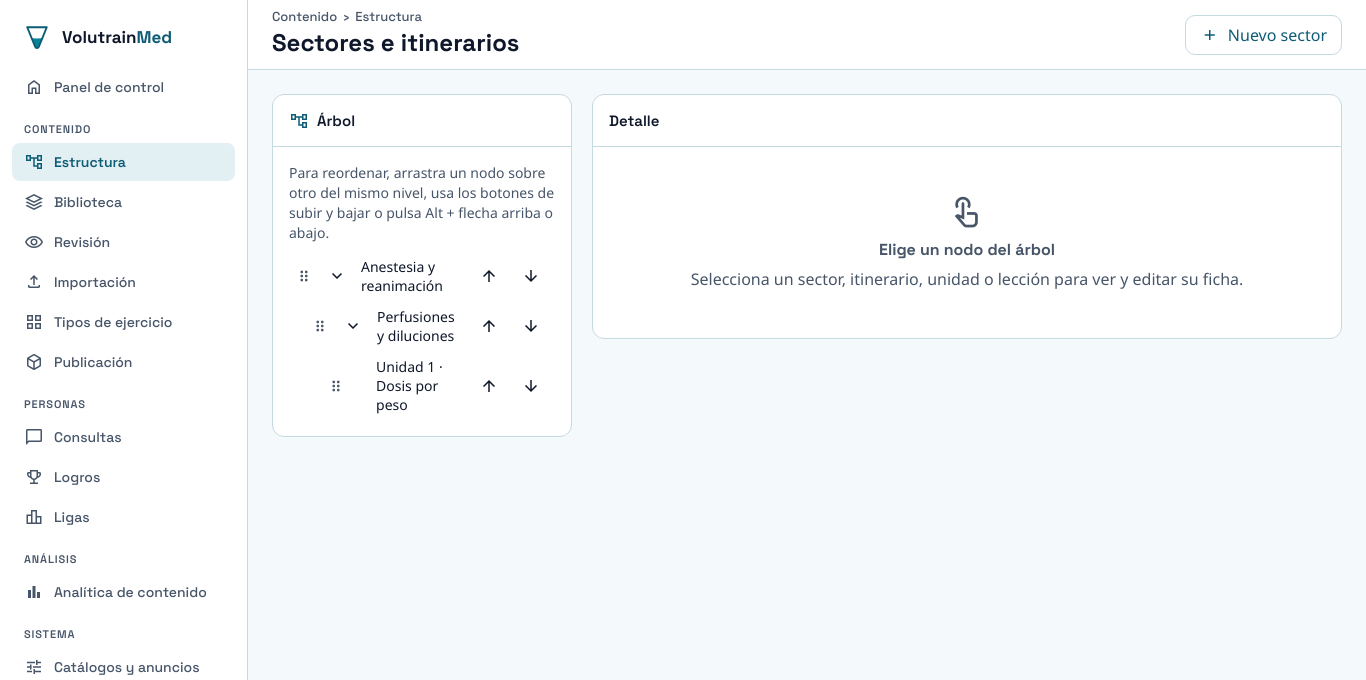
Test case: B04 · estructura del contenido › Nueva unidad: aparece en el árbol en estado borrador
The width and height of the screenshot is (1366, 680).
Click the button "Perfusiones y diluciones": (421, 326) 377,301 -> 465,351
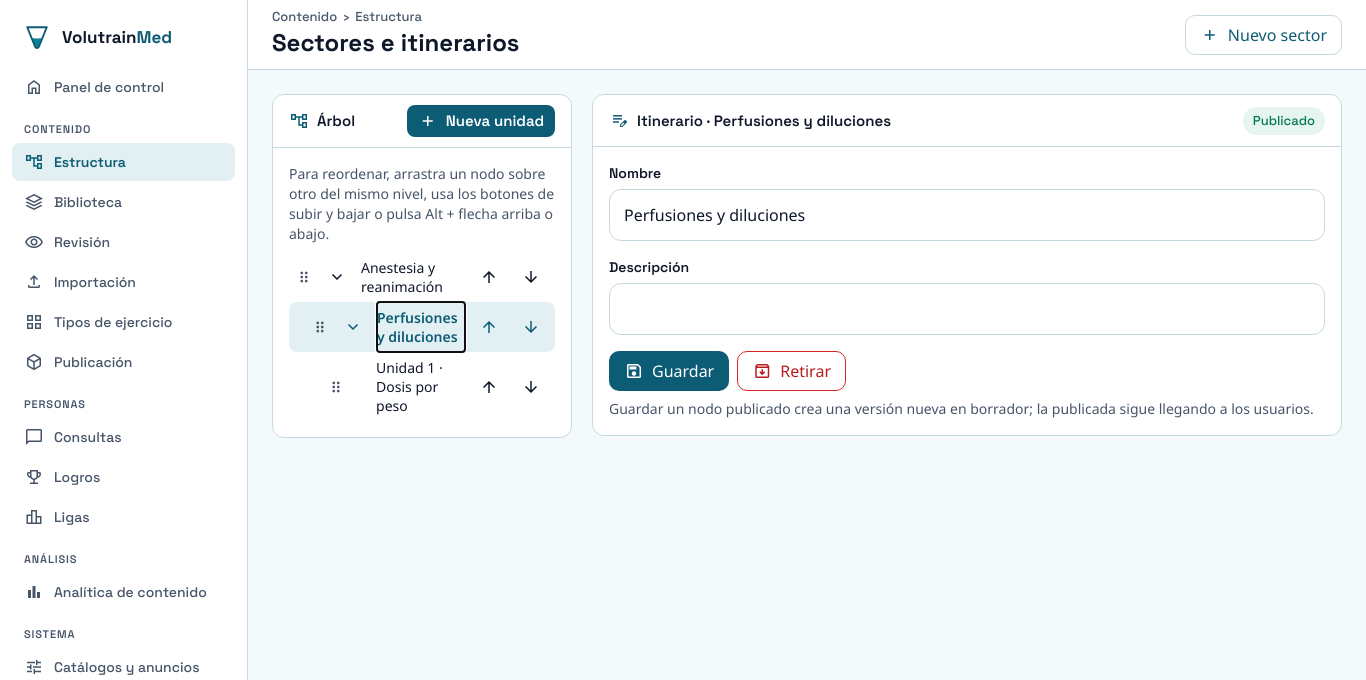
Click the button "Nueva unidad": (481, 121) 407,105 -> 555,137
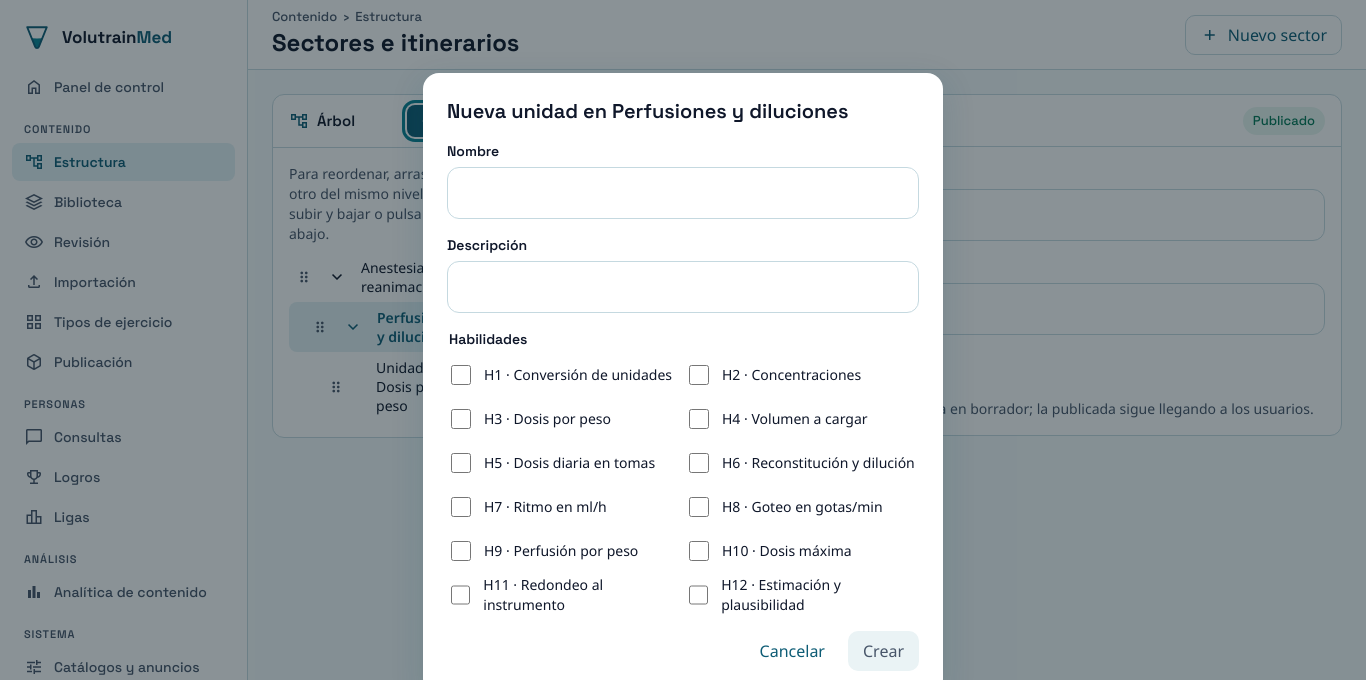
In the field labelled "Nombre": (683, 193) 447,167 -> 919,219, type "Perfusiones"
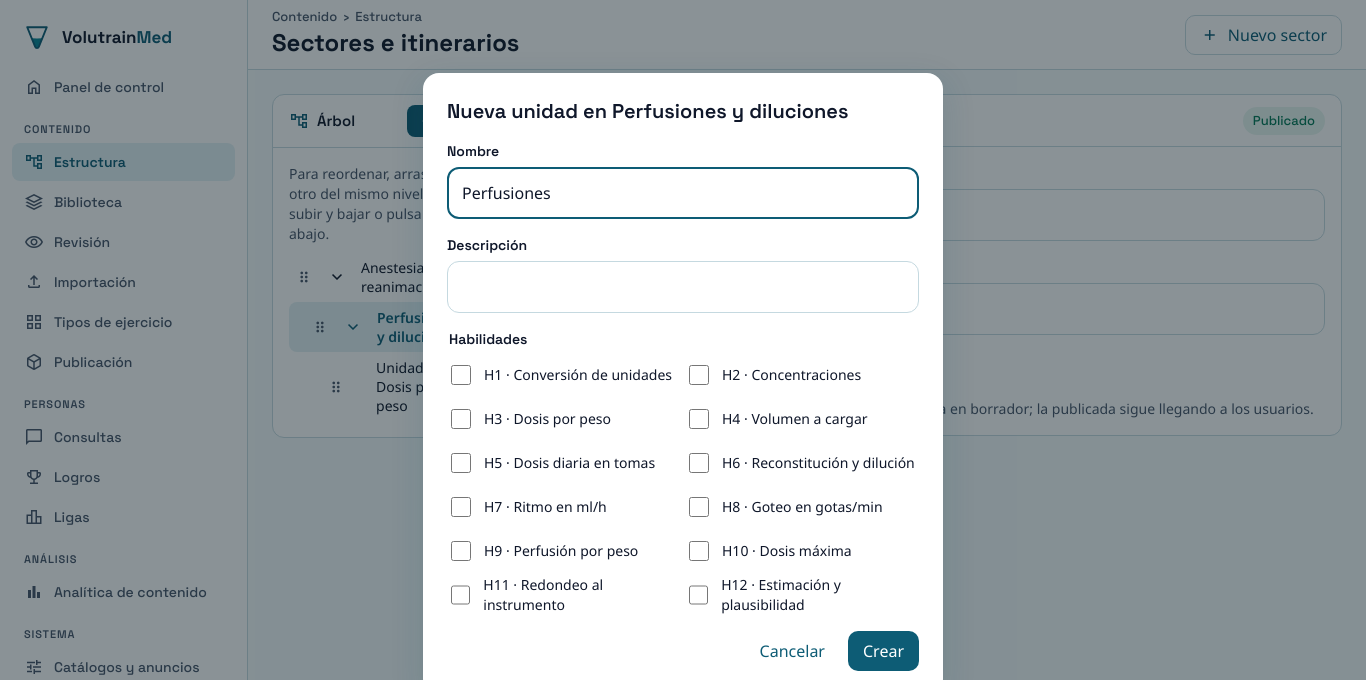
Click the checkbox labelled "H7 · Ritmo en ml/h": (461, 507) 451,497 -> 471,517
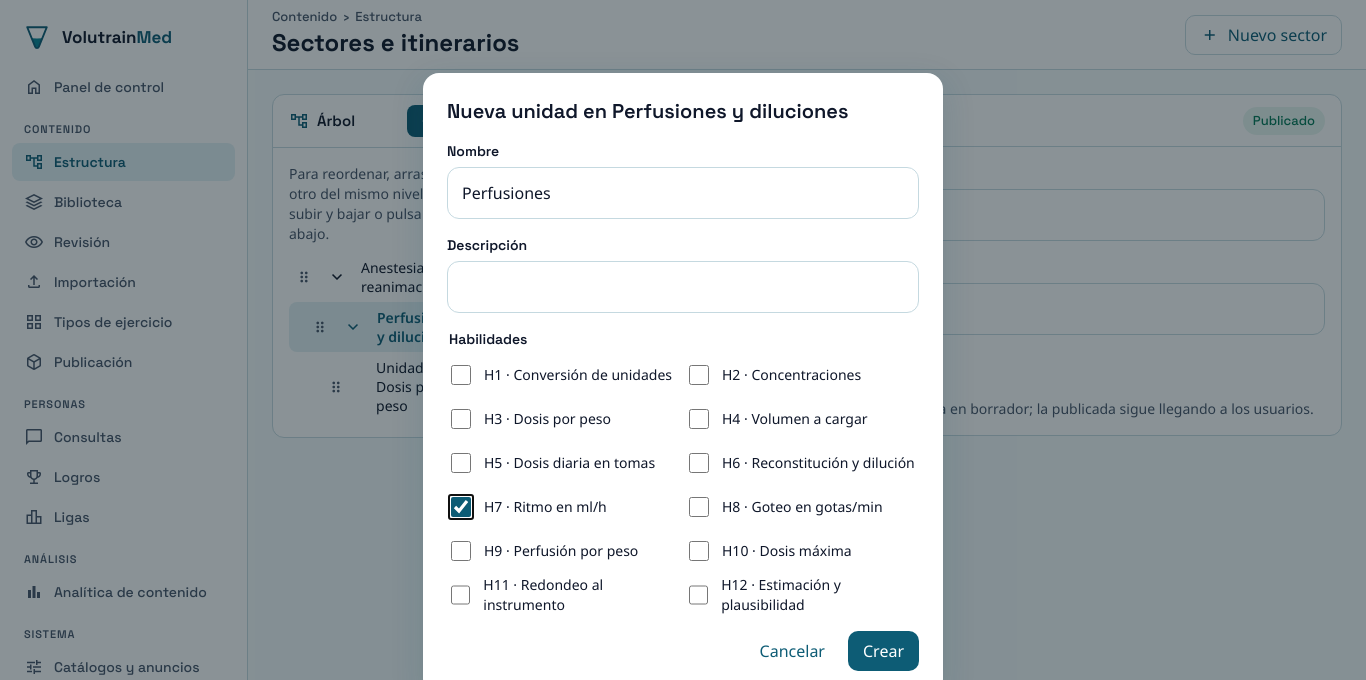
Click the checkbox labelled "H9 · Perfusión por peso": (461, 551) 451,541 -> 471,561
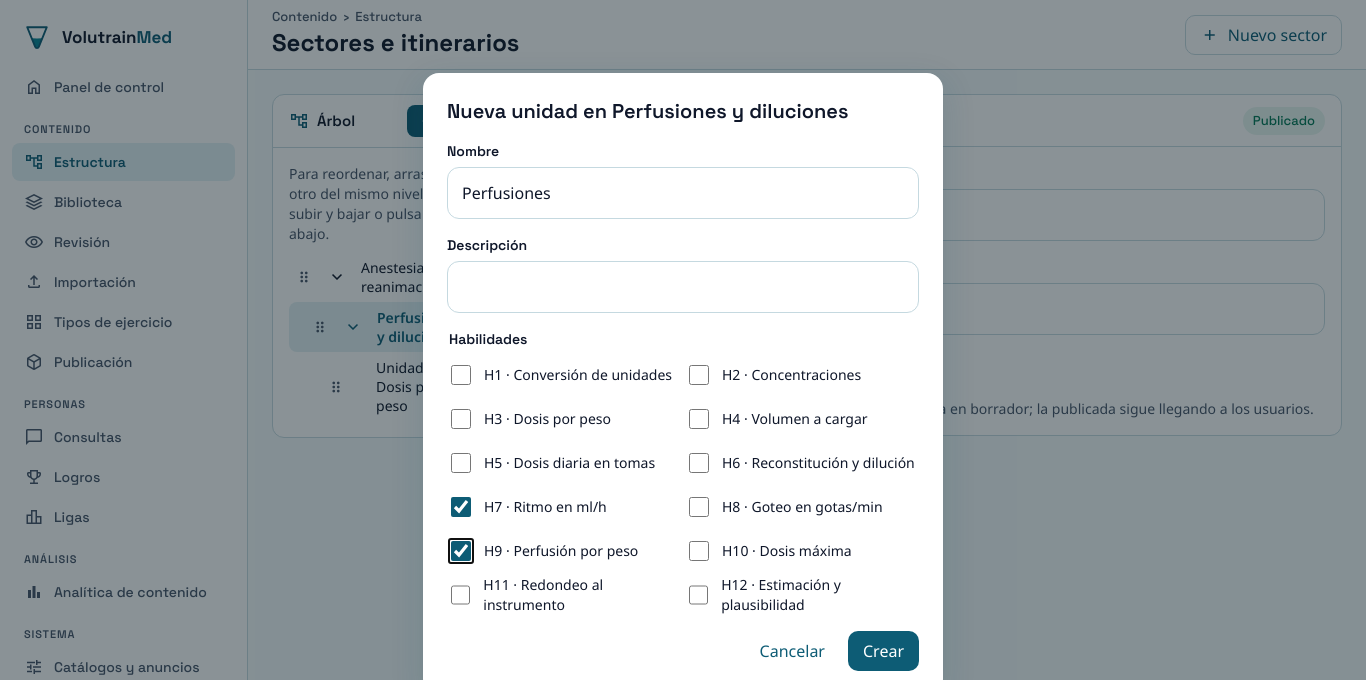
Click the button "Crear": (884, 651) 848,631 -> 919,671
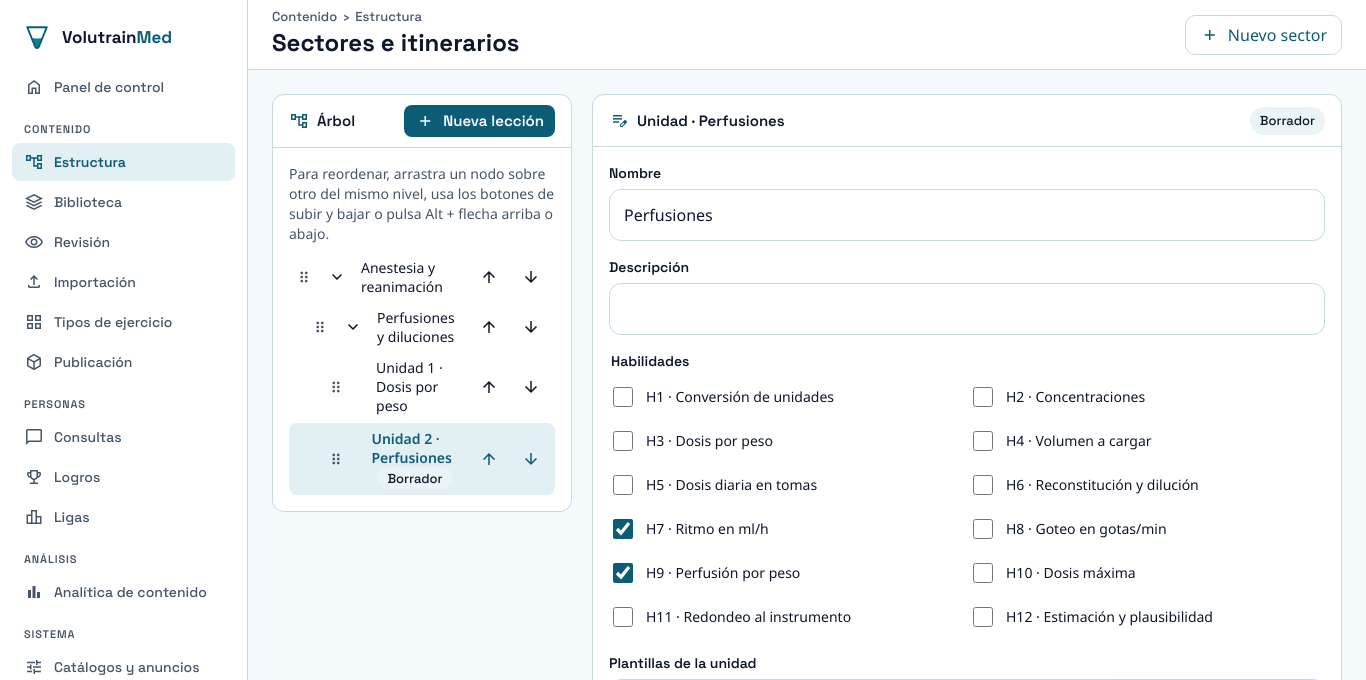
Result: the button "Unidad 2 · Perfusiones Borrador" is shown at 371,423 -> 465,495
